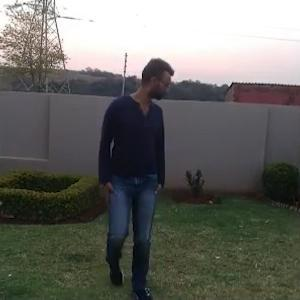follow: (95, 48, 173, 278)
